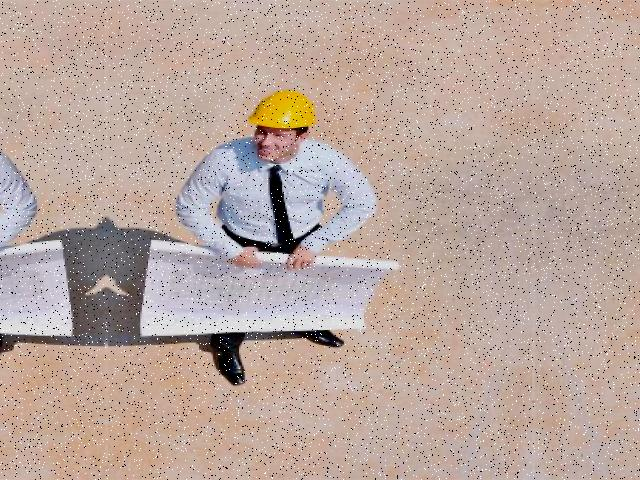Helmet: (245, 86, 325, 134)
